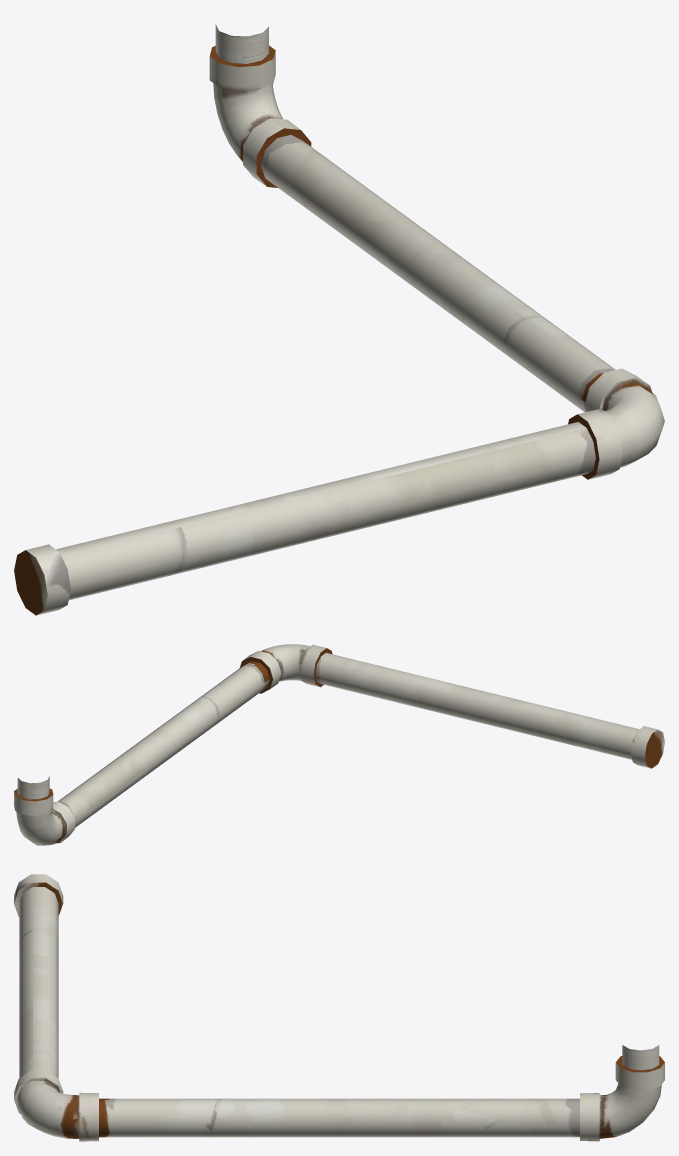
3 renders of one model, top to bottom at view 1: azimuth 30°, elevation 25°; view 2: azimuth 150°, elevation 25°; view 3: azimuth 270°, elevation 25°, orthographic. The views are drawn at different scales.
Parts seen in each view (by area): view 1: body0_model0_lod0_mesh0; view 2: body0_model0_lod0_mesh0; view 3: body0_model0_lod0_mesh0.
Part boxes in pixels (box(x1,y1,x2,y2)): body0_model0_lod0_mesh0: box(14, 24, 664, 615); body0_model0_lod0_mesh0: box(14, 644, 664, 845); body0_model0_lod0_mesh0: box(14, 874, 664, 1141).
Bounding box in the file's own units: 112 × 21.81 × 132.
1 material, 1 textured.
